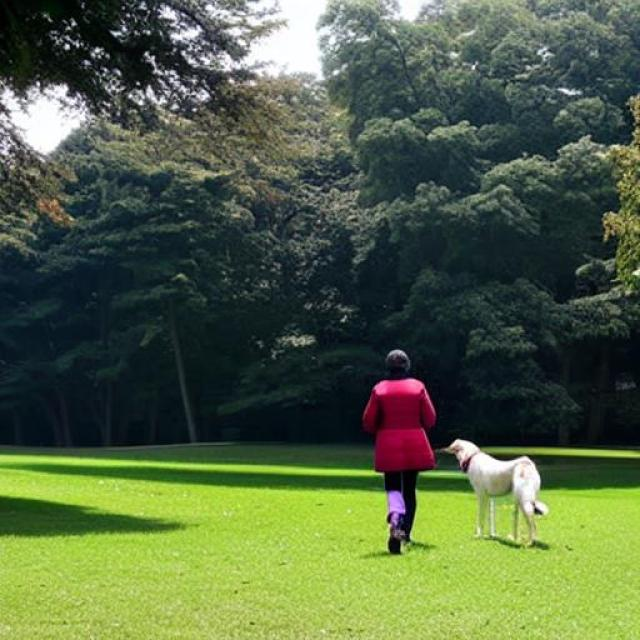Unleashed_Dog: (372, 438, 549, 554)
